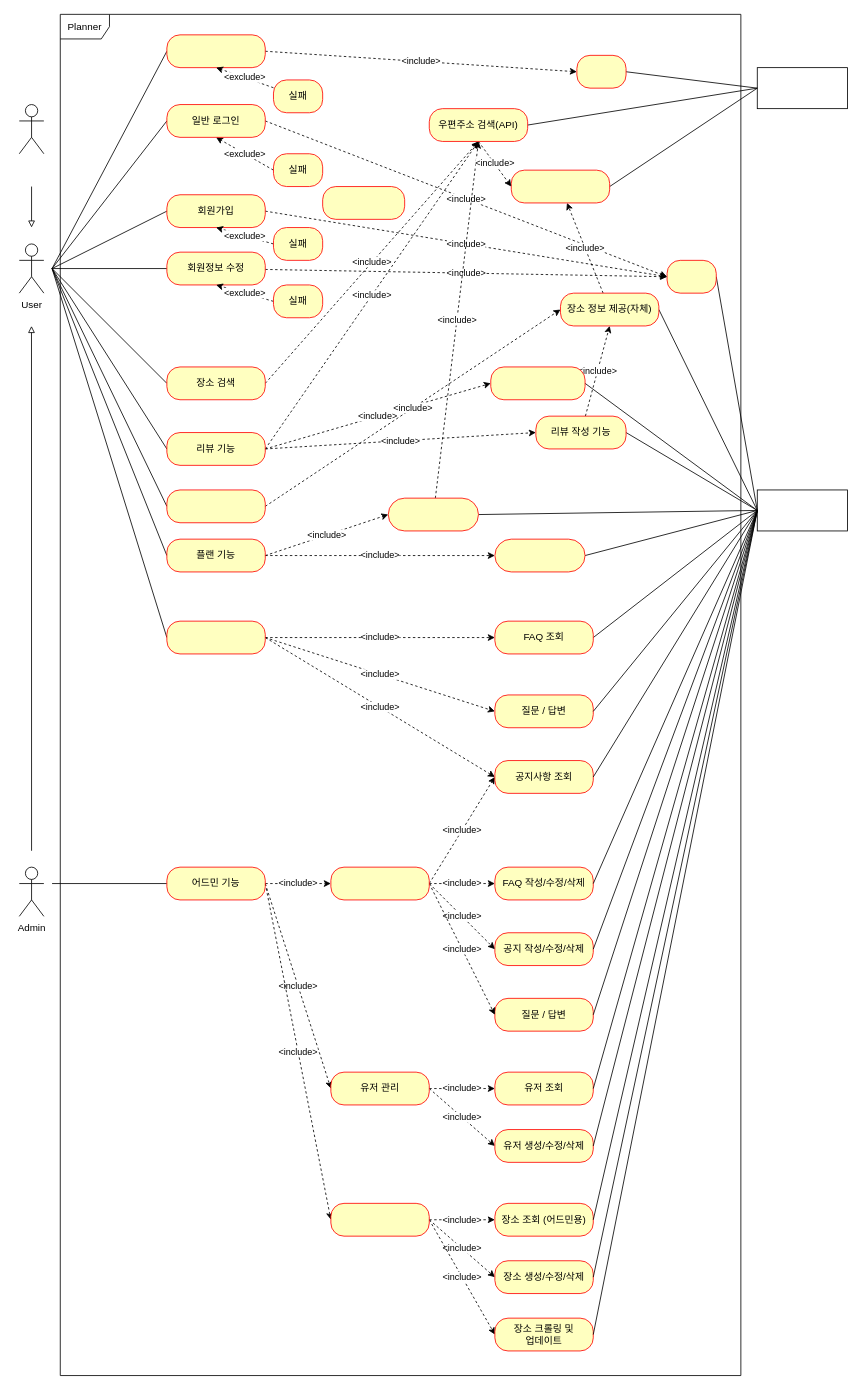
This 862x1390 diagram has some shape labels left out. The centre of each missing label's shape, as x and y in pixels:
"DB" goes at point (801, 510).
"Kakao REST API" goes at point (801, 88).
"Regular" goes at point (31, 129).
"계획 데이터 제공" goes at point (539, 555).
"계획 작성 기능" goes at point (432, 514).
"고객센터 기능" goes at point (215, 637).
"리뷰 정보 제공" goes at point (537, 383).
"비밀번호 초기화" goes at point (363, 202).
"서비스 관리" goes at point (379, 883).
"소셜 로그인" goes at point (215, 51).
"소셜 인증" goes at point (601, 71).
"인증" goes at point (691, 276).
"장소 관리" goes at point (379, 1219).
"장소 저장 기능" goes at point (215, 506).
"장소 정보 검색(API)" goes at point (560, 186).
